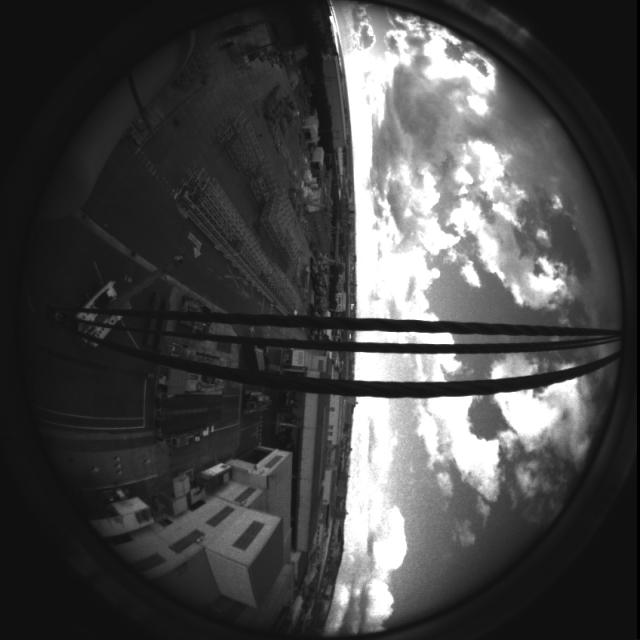rope: (14, 293, 635, 406)
sky: (321, 5, 623, 638)
